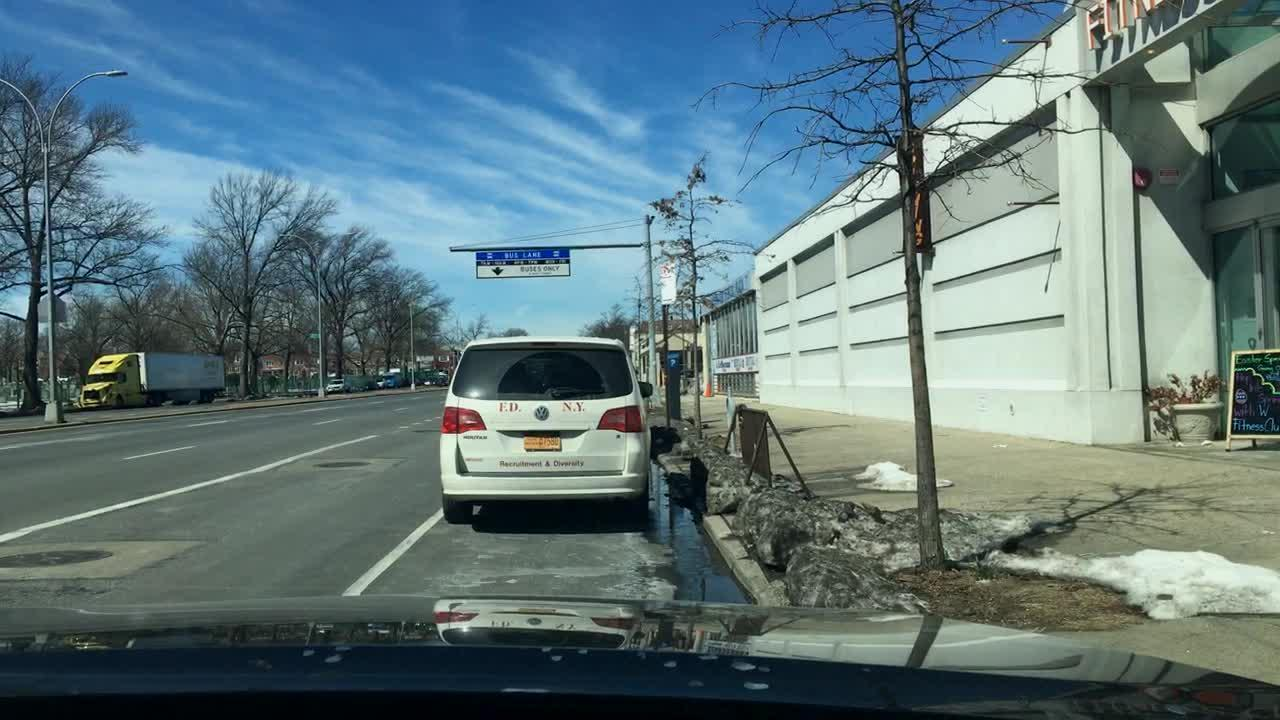Volkswagen: (529, 401, 551, 427)
